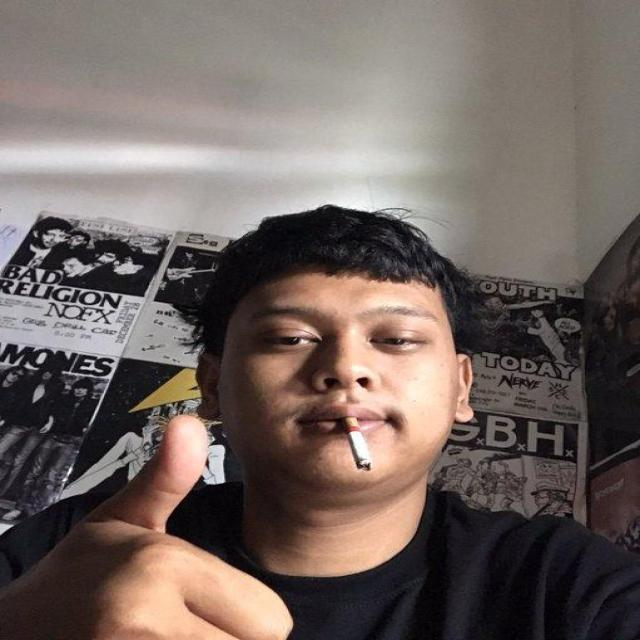rokok: (342, 406, 378, 478)
